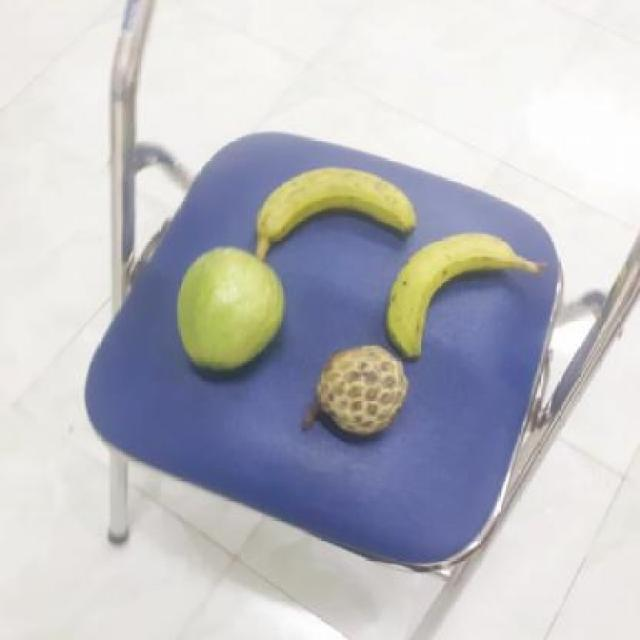banana: (380, 232, 520, 352), (246, 171, 414, 254)
guava: (170, 247, 282, 373)
sugar apple: (302, 344, 409, 434)
